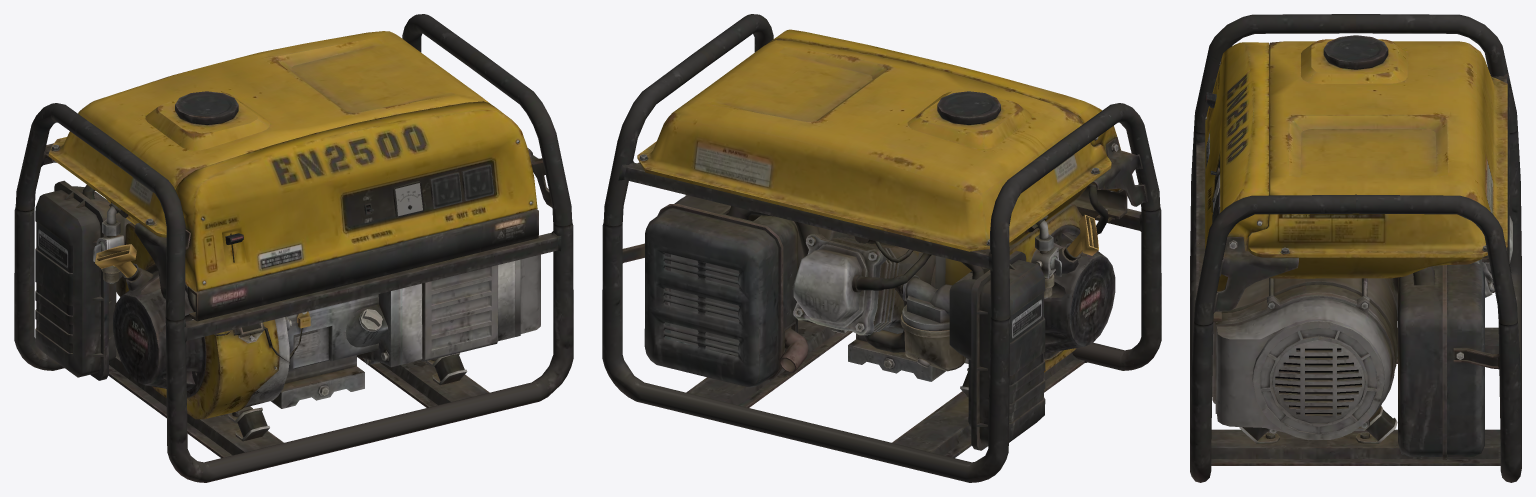
File: generator.glb
3 renders of one model, left to right at view 1: azimuth 30°, elevation 25°; view 2: azimuth 150°, elevation 25°; view 3: azimuth 270°, elevation 25°, orthographic.
Parts seen in each view (by area): view 1: portable_generator; view 2: portable_generator; view 3: portable_generator.
Part boxes in pixels (bbox=[...]): portable_generator: bbox=[14, 14, 573, 482]; portable_generator: bbox=[602, 14, 1161, 482]; portable_generator: bbox=[1190, 14, 1521, 482].
Bounding box in the file's own units: 0.8169 × 0.5752 × 0.564.
Materials: 2 (2 with a texture image).
